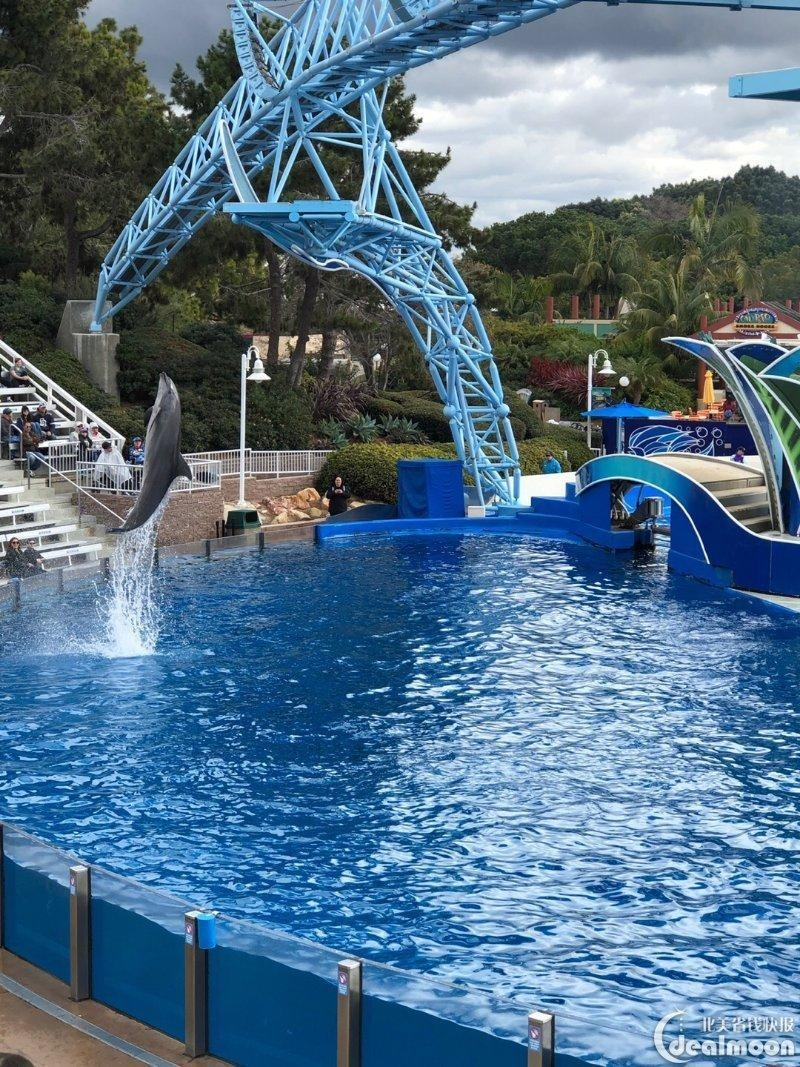fish: (115, 361, 199, 544)
